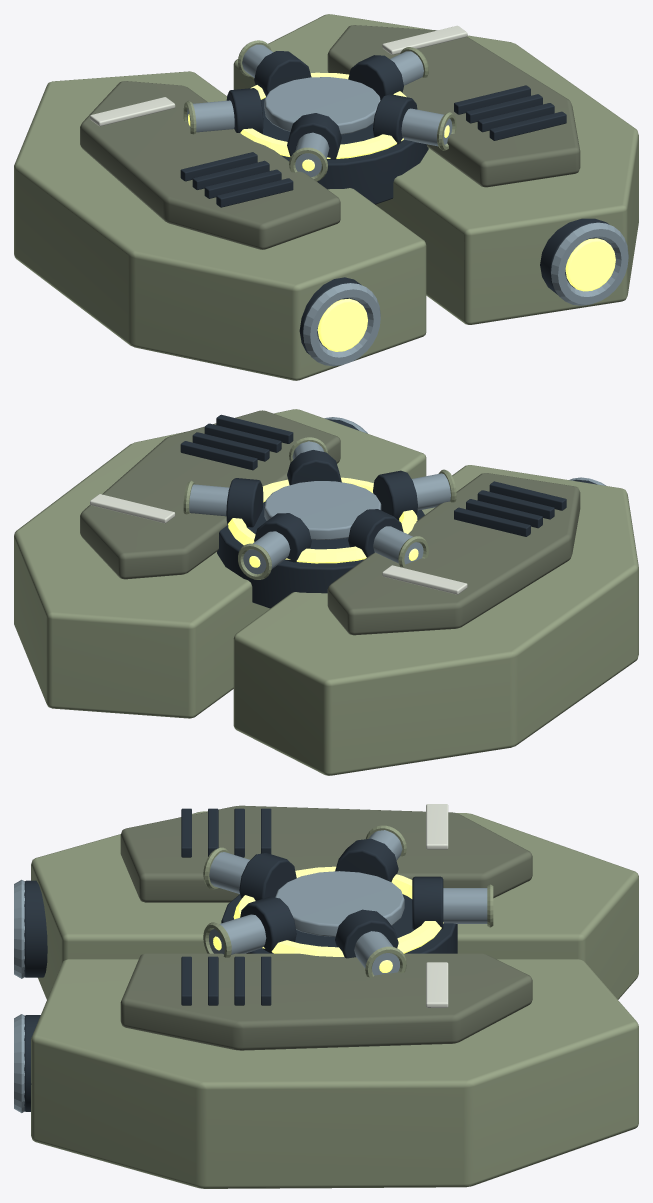
File: asteroid_nodulo.glb
The picture shows the model from 3 angles, top to bottom: view 1: azimuth 30°, elevation 25°; view 2: azimuth 150°, elevation 25°; view 3: azimuth 270°, elevation 25°; orthographic projection. The views are drawn at different scales.
Parts seen in each view (by area): view 1: fragment_left | NODULO | armor, fragment_right | NODULO | armor, fragment_left | NODULO | secondary, fragment_right | NODULO | secondary, radial_emitter | Graphite chassis, radial_emitter | Titanium, fragment_right | Graphite chassis, fragment_left | Graphite chassis, fragment_right | Titanium, fragment_left | Titanium, fragment_right | NODULO | energy, fragment_left | NODULO | energy (+4 smaller); view 2: fragment_left | NODULO | armor, fragment_right | NODULO | armor, fragment_left | NODULO | secondary, fragment_right | NODULO | secondary, radial_emitter | Graphite chassis, radial_emitter | Titanium, fragment_right | Graphite chassis, fragment_left | Graphite chassis, radial_emitter | NODULO | energy, radial_emitter | NODULO | armor, fragment_left | Ivory identification, fragment_right | Ivory identification; view 3: fragment_right | NODULO | armor, fragment_left | NODULO | armor, fragment_right | NODULO | secondary, fragment_left | NODULO | secondary, radial_emitter | Titanium, radial_emitter | Graphite chassis, fragment_left | Graphite chassis, fragment_right | Graphite chassis, radial_emitter | NODULO | energy, radial_emitter | NODULO | armor, fragment_left | Titanium, fragment_right | Titanium (+2 smaller).
Part boxes in pixels (x1=…): fragment_left | NODULO | armor: x1=14, y1=71, x2=426, y2=380; fragment_right | NODULO | armor: x1=233, y1=14, x2=638, y2=324; fragment_left | NODULO | secondary: x1=80, y1=81, x2=340, y2=249; fragment_right | NODULO | secondary: x1=327, y1=25, x2=580, y2=187; radial_emitter | Graphite chassis: x1=226, y1=51, x2=428, y2=204; radial_emitter | Titanium: x1=187, y1=44, x2=452, y2=177; fragment_right | Graphite chassis: x1=454, y1=85, x2=609, y2=294; fragment_left | Graphite chassis: x1=180, y1=152, x2=361, y2=354; fragment_right | Titanium: x1=551, y1=222, x2=628, y2=305; fragment_left | Titanium: x1=303, y1=283, x2=380, y2=366; fragment_right | NODULO | energy: x1=565, y1=238, x2=615, y2=291; fragment_left | NODULO | energy: x1=317, y1=298, x2=367, y2=351; fragment_left | NODULO | armor: x1=233, y1=465, x2=638, y2=775; fragment_right | NODULO | armor: x1=14, y1=409, x2=426, y2=718; fragment_left | NODULO | secondary: x1=327, y1=473, x2=580, y2=635; fragment_right | NODULO | secondary: x1=80, y1=410, x2=340, y2=579; radial_emitter | Graphite chassis: x1=217, y1=450, x2=424, y2=608; radial_emitter | Titanium: x1=189, y1=441, x2=450, y2=574; fragment_right | Graphite chassis: x1=180, y1=414, x2=358, y2=470; fragment_left | Graphite chassis: x1=454, y1=479, x2=597, y2=536; radial_emitter | NODULO | energy: x1=228, y1=477, x2=418, y2=567; radial_emitter | NODULO | armor: x1=183, y1=437, x2=456, y2=579; fragment_left | Ivory identification: x1=382, y1=565, x2=467, y2=594; fragment_right | Ivory identification: x1=90, y1=494, x2=175, y2=523; fragment_right | NODULO | armor: x1=31, y1=959, x2=638, y2=1188; fragment_left | NODULO | armor: x1=31, y1=811, x2=638, y2=999; fragment_right | NODULO | secondary: x1=120, y1=953, x2=532, y2=1050; fragment_left | NODULO | secondary: x1=120, y1=805, x2=532, y2=902; radial_emitter | Titanium: x1=209, y1=830, x2=487, y2=975; radial_emitter | Graphite chassis: x1=221, y1=838, x2=457, y2=958; fragment_left | Graphite chassis: x1=24, y1=808, x2=271, y2=977; fragment_right | Graphite chassis: x1=24, y1=956, x2=271, y2=1111; radial_emitter | NODULO | energy: x1=213, y1=866, x2=443, y2=972; radial_emitter | NODULO | armor: x1=203, y1=825, x2=493, y2=977; fragment_left | Titanium: x1=14, y1=879, x2=24, y2=978; fragment_right | Titanium: x1=14, y1=1014, x2=24, y2=1112.
Size of the model in its own units: 1.6 by 0.472 by 1.53.
